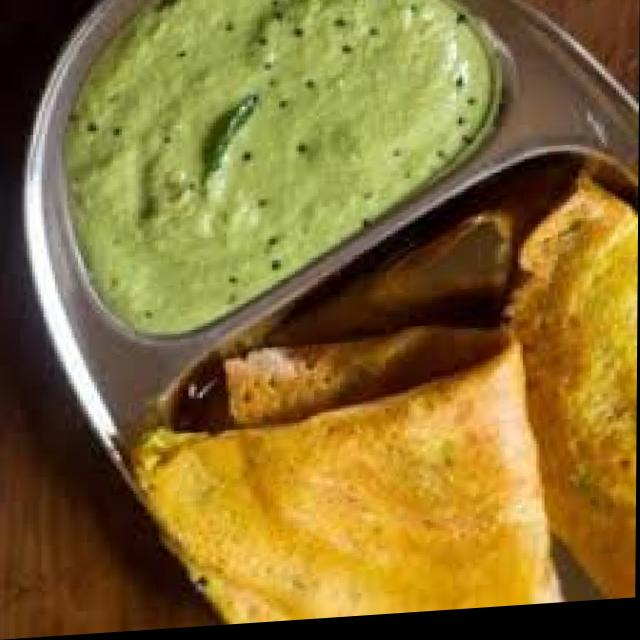DOSA: (131, 178, 635, 625)
WHITE CHUTNEY: (70, 0, 491, 334)
